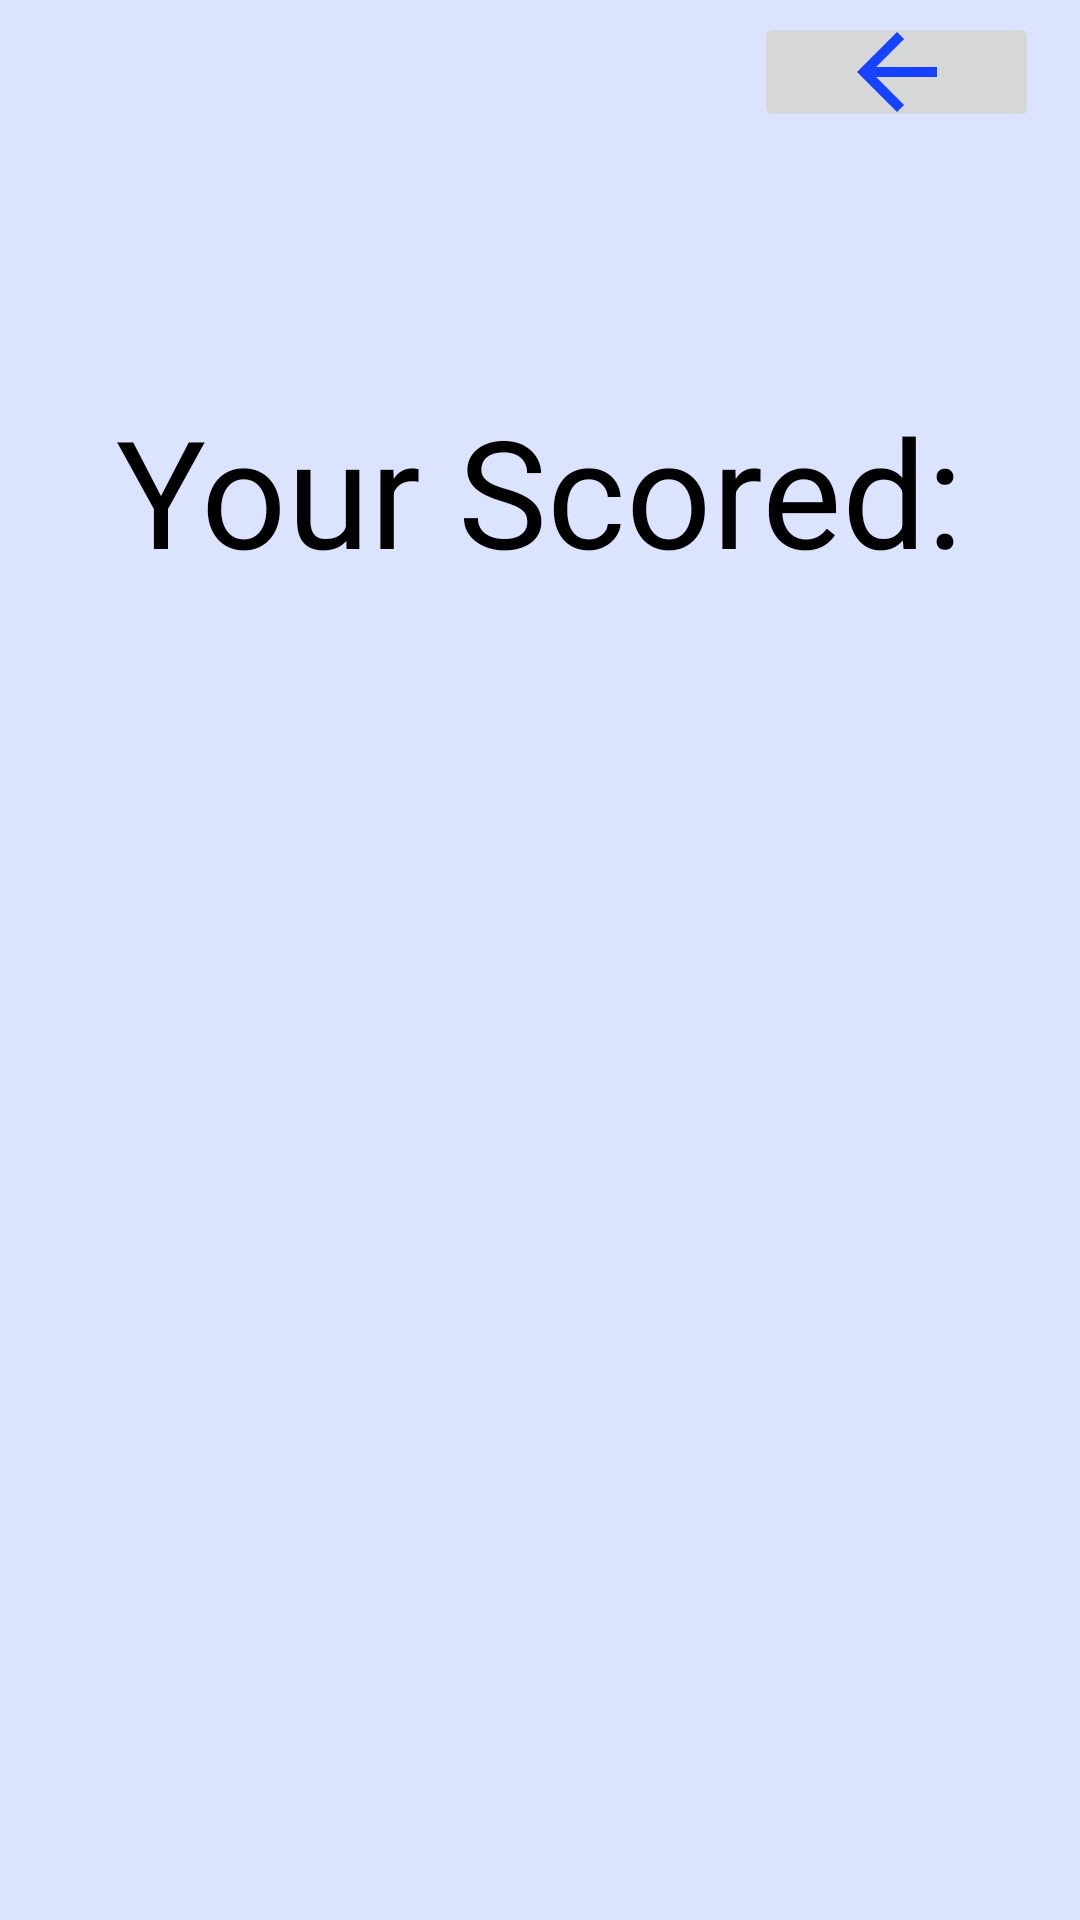

Icon bounding boxes for this 1080 × 1920 phone screenshot, format {"left": x1, "top": y1, "right": x2, "bottom": y2}:
Go Back: {"left": 766, "top": 30, "right": 1027, "bottom": 114}
